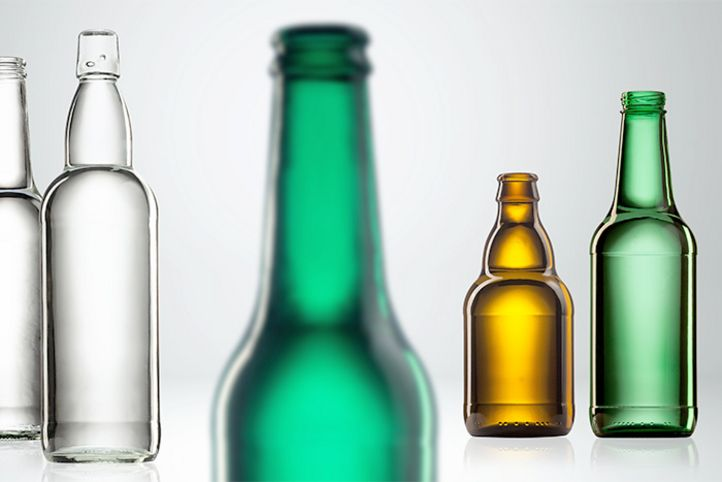glass_bottle: (204, 18, 447, 482), (34, 21, 166, 462), (586, 80, 703, 445), (458, 163, 581, 445)
